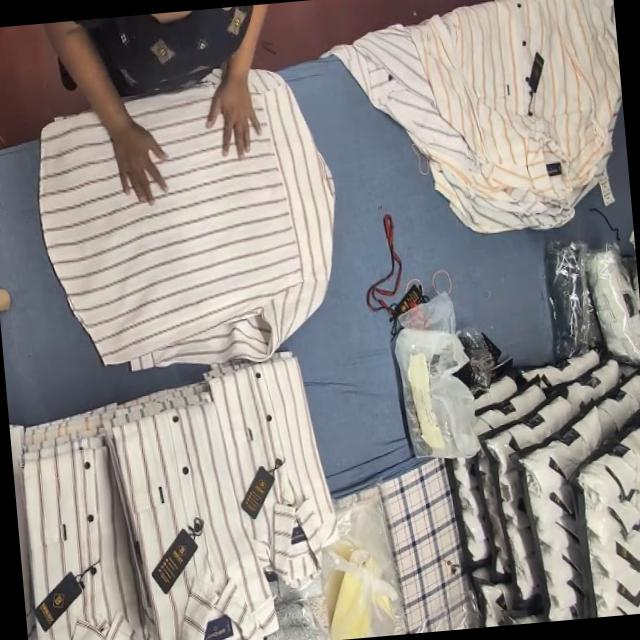new-garment: (38, 71, 333, 369)
